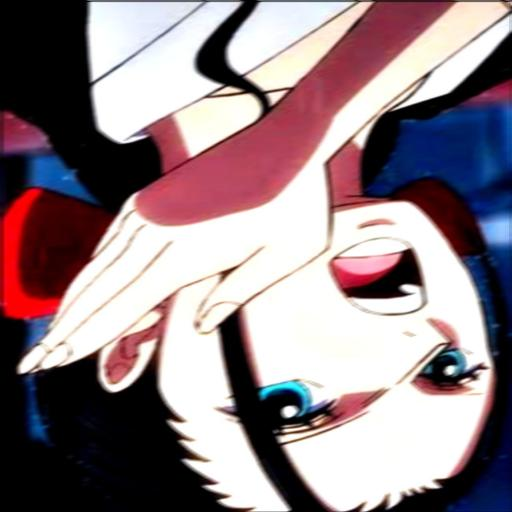NicoRobin: (17, 2, 512, 512)
